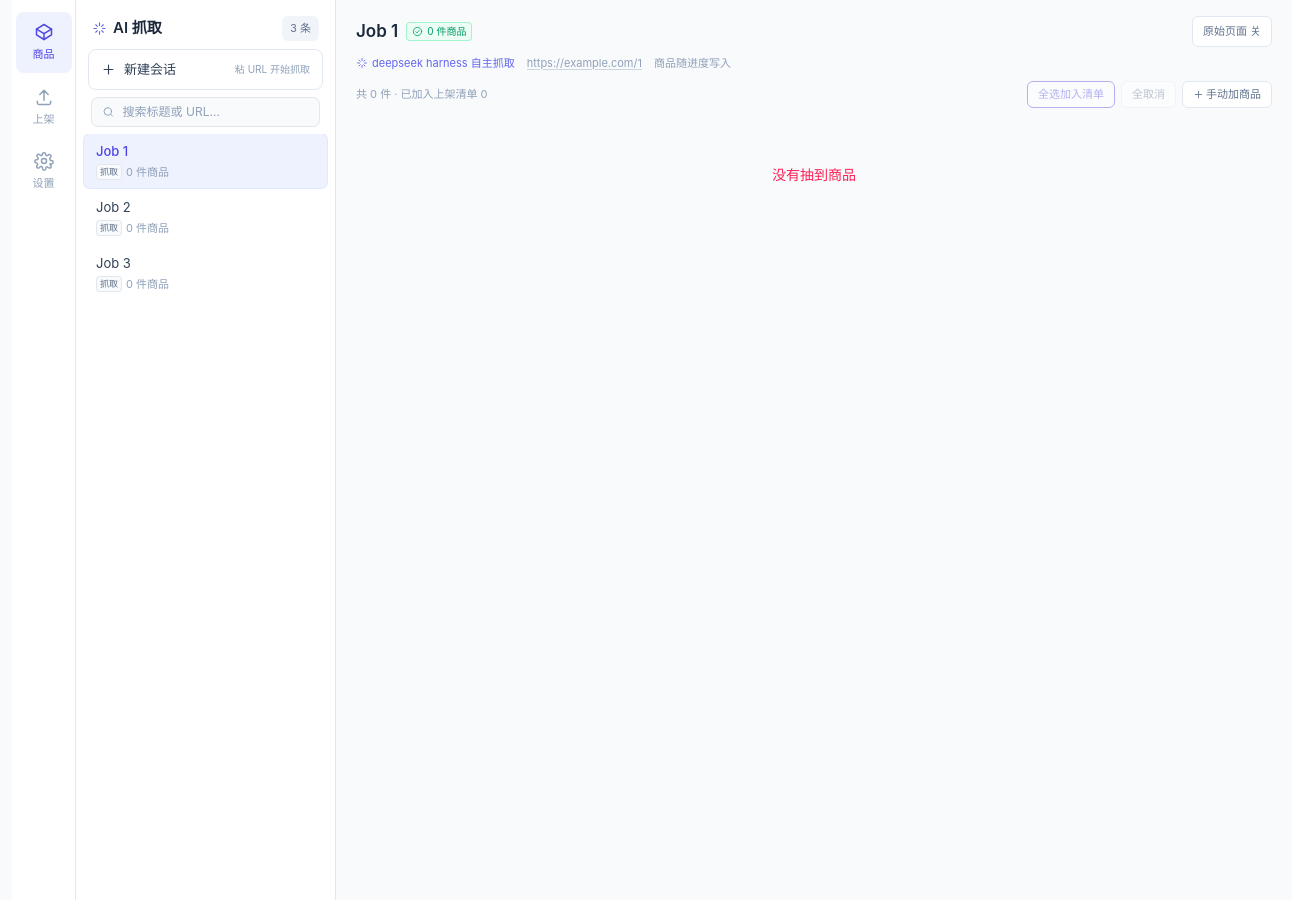
Test: failed manual add keeps the form and its input, even with no scraped products
Expected: the heading "Job 1" is shown, x1=356 y1=18 x2=398 y2=44
Click the button "手动加商品" at (1227, 94), box x1=1182 y1=81 x2=1272 y2=108
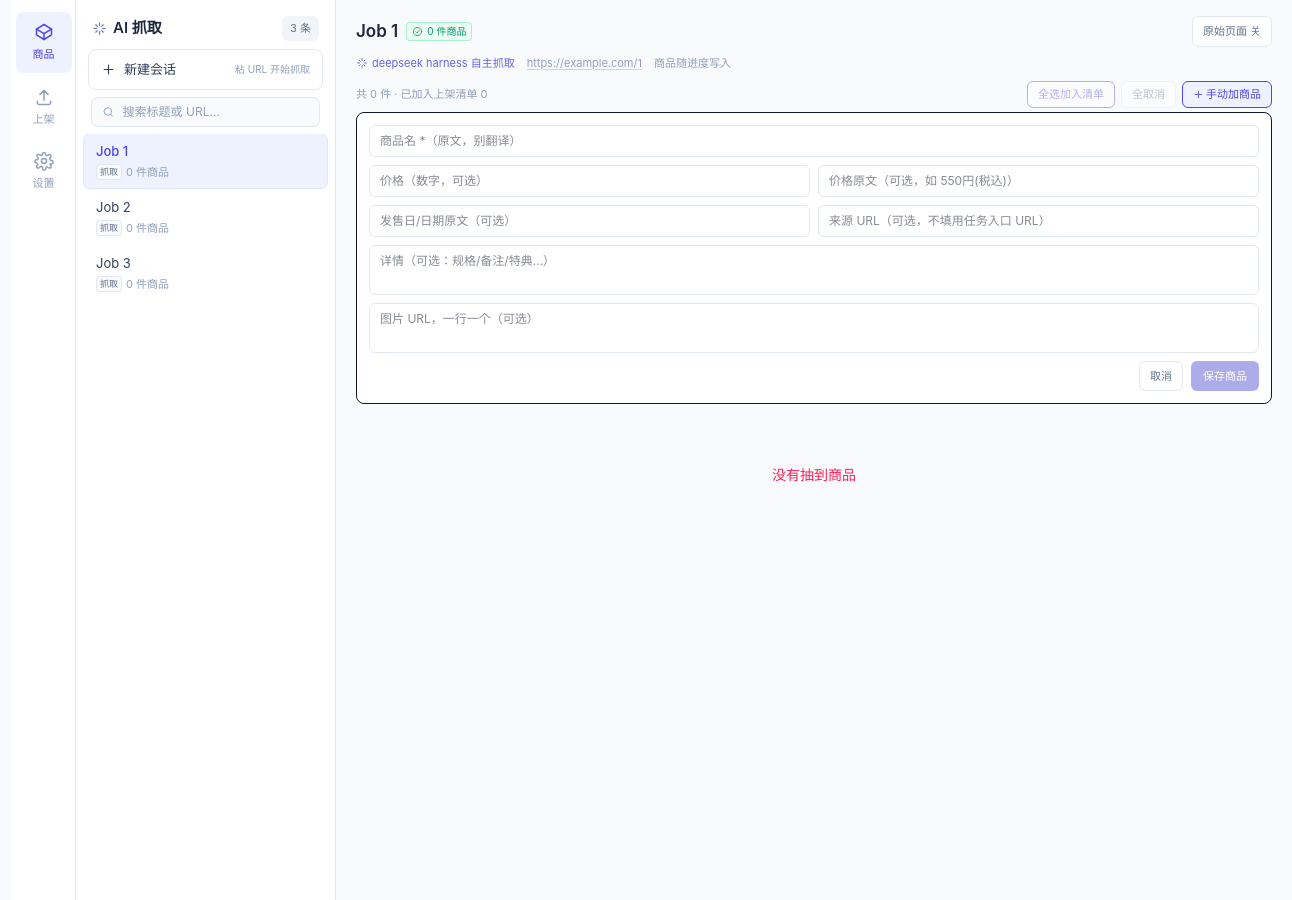
Type "manual A" into the field with placeholder "商品名 *（原文，别翻译）" at (814, 140), box x1=369 y1=124 x2=1259 y2=156
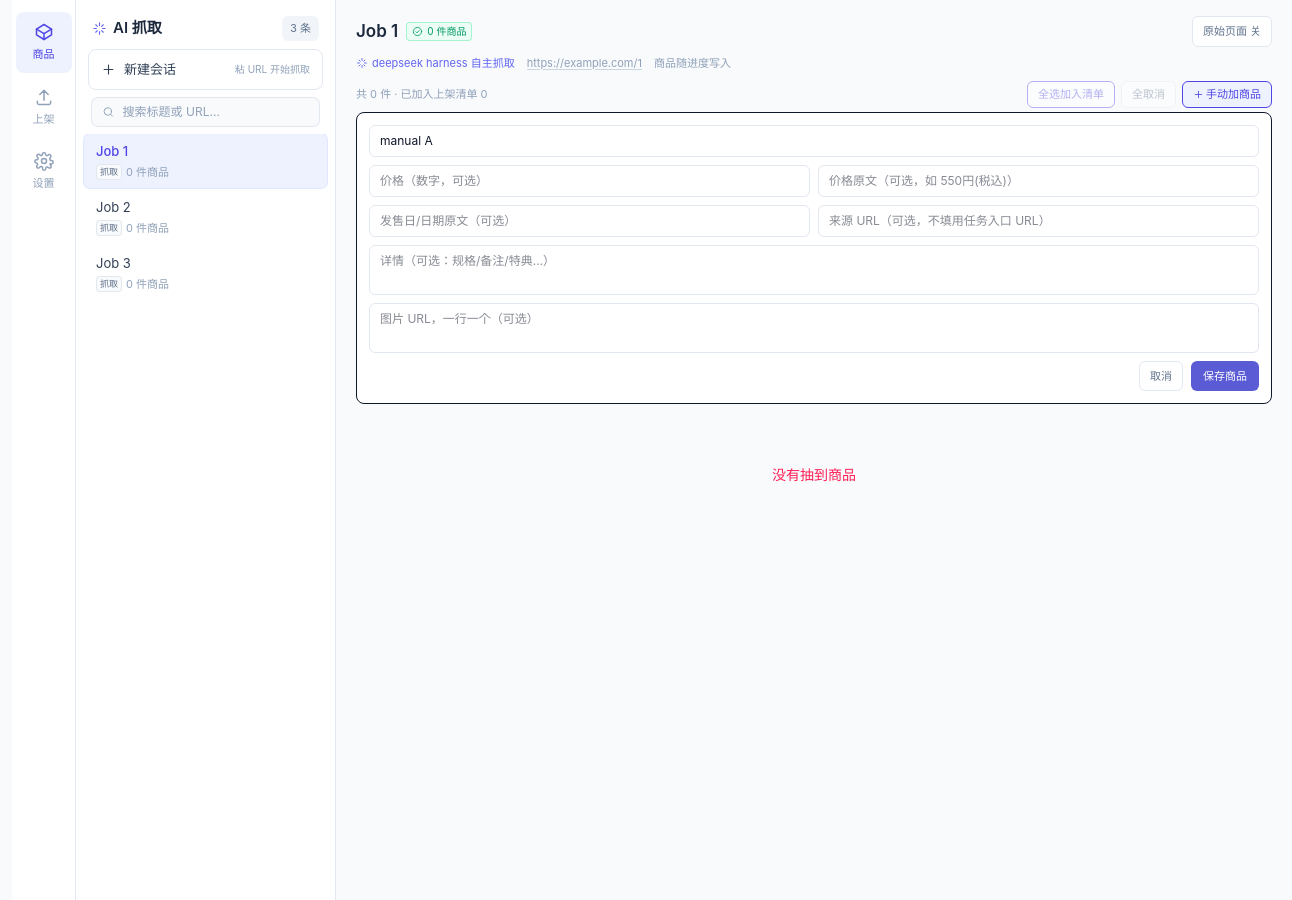
Click the button "保存商品" at (1225, 376), box x1=1191 y1=360 x2=1259 y2=391
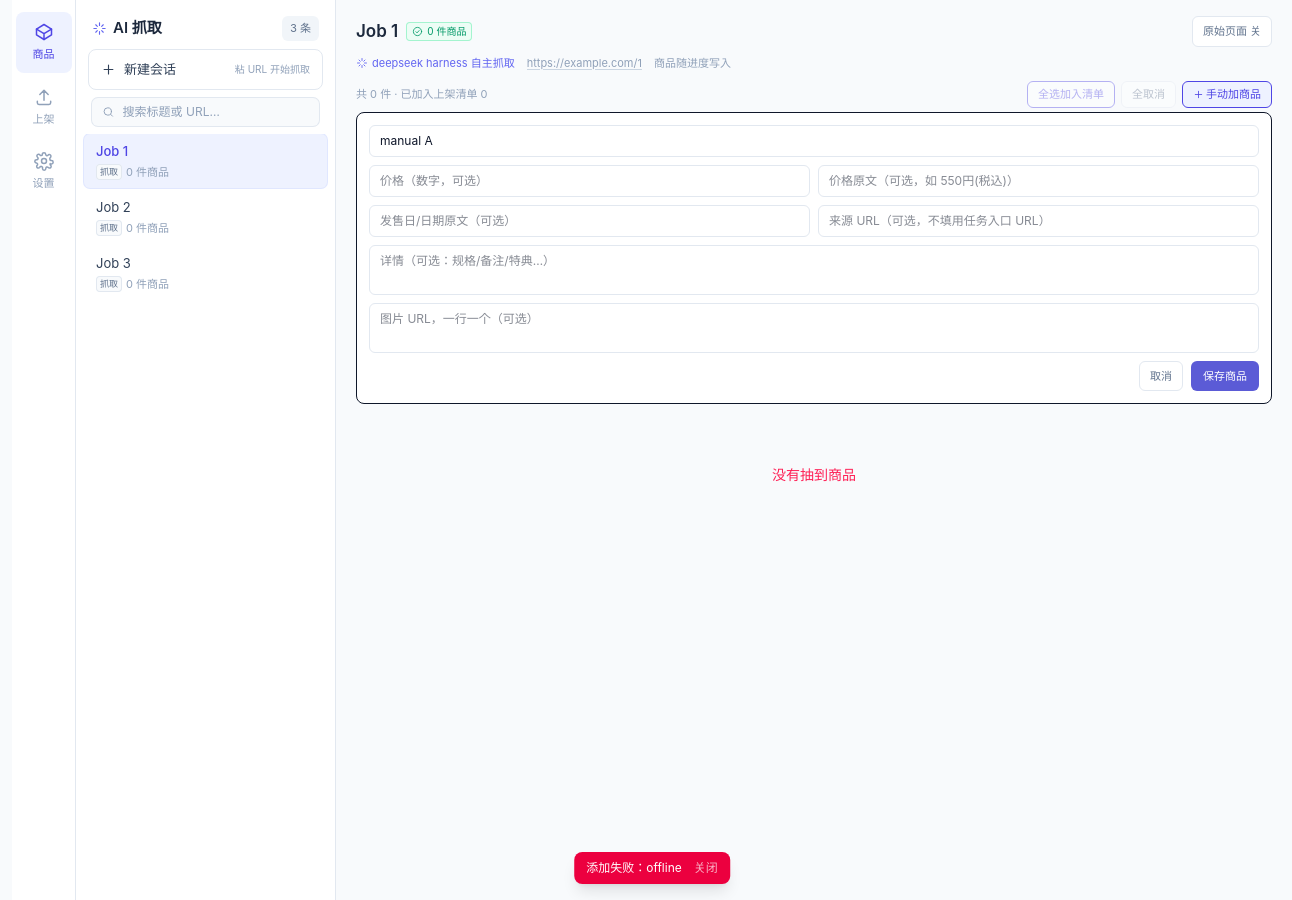
Expected: the button "保存商品" is shown, x1=1191 y1=360 x2=1259 y2=391
Expected: the text "添加失败：offline" is shown, x1=586 y1=860 x2=682 y2=875
